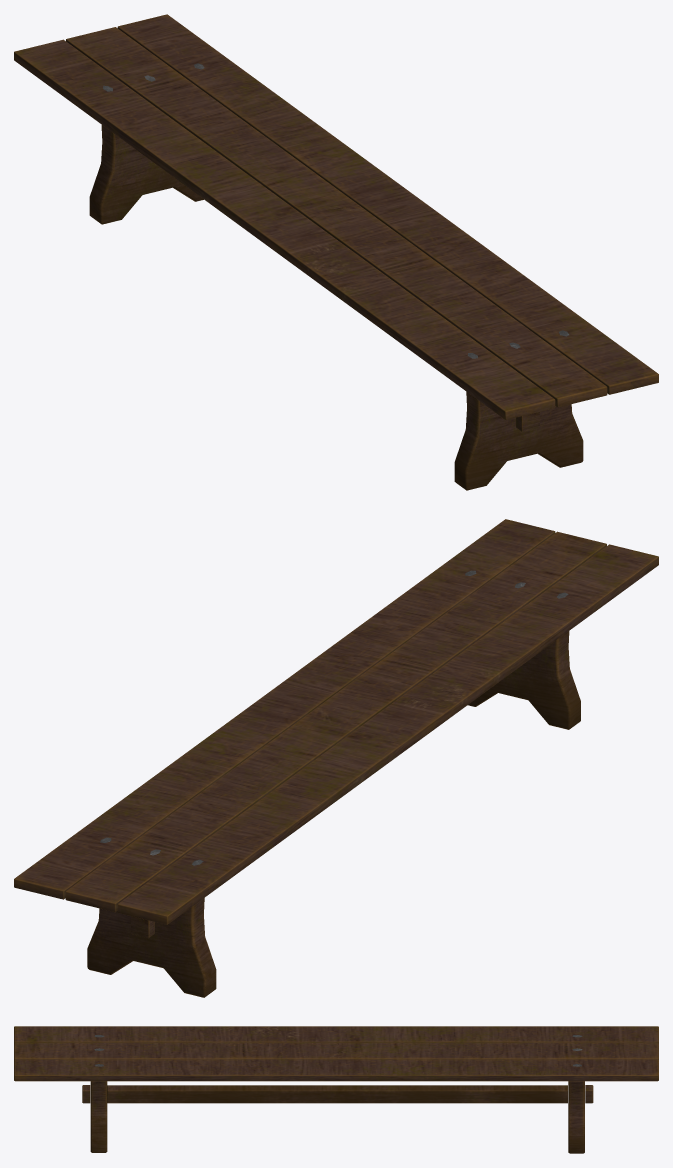
File: bench_dark_dirty.glb
3 views of the same model, one above another, from view 1: azimuth 30°, elevation 25°; view 2: azimuth 150°, elevation 25°; view 3: azimuth 270°, elevation 25° (orthographic). The views are drawn at different scales.
Visible parts, largest first — view 1: Object_2; view 2: Object_2; view 3: Object_2.
Part boxes in pixels (bbox=[...]): Object_2: bbox=[14, 14, 658, 490]; Object_2: bbox=[14, 519, 658, 997]; Object_2: bbox=[14, 1026, 658, 1153].
Size of the model in its own units: 71.09 by 57.17 by 393.
1 material, 1 textured.
